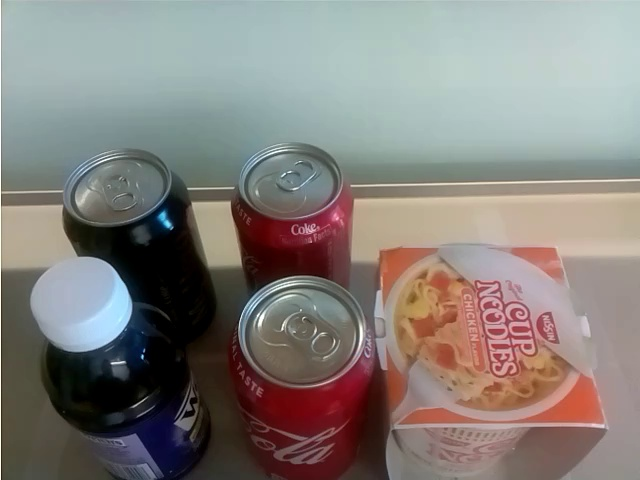cocacola: (228, 276, 379, 475), (230, 143, 363, 272)
cocacola-zero: (55, 150, 203, 255)
juice: (26, 256, 210, 480)
noodles: (378, 243, 608, 478)
